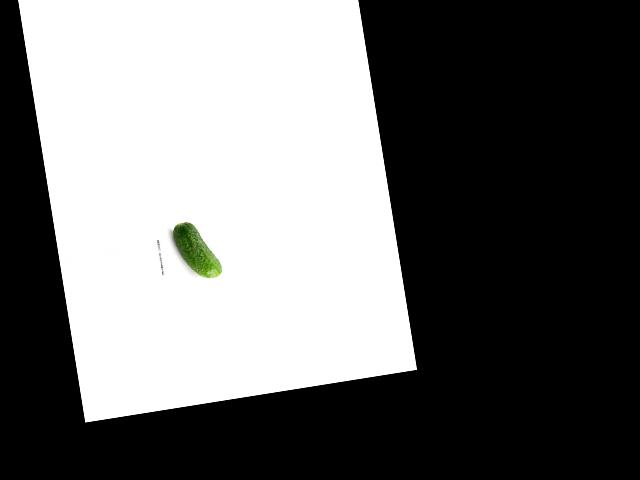cucumber: (171, 217, 223, 282)
